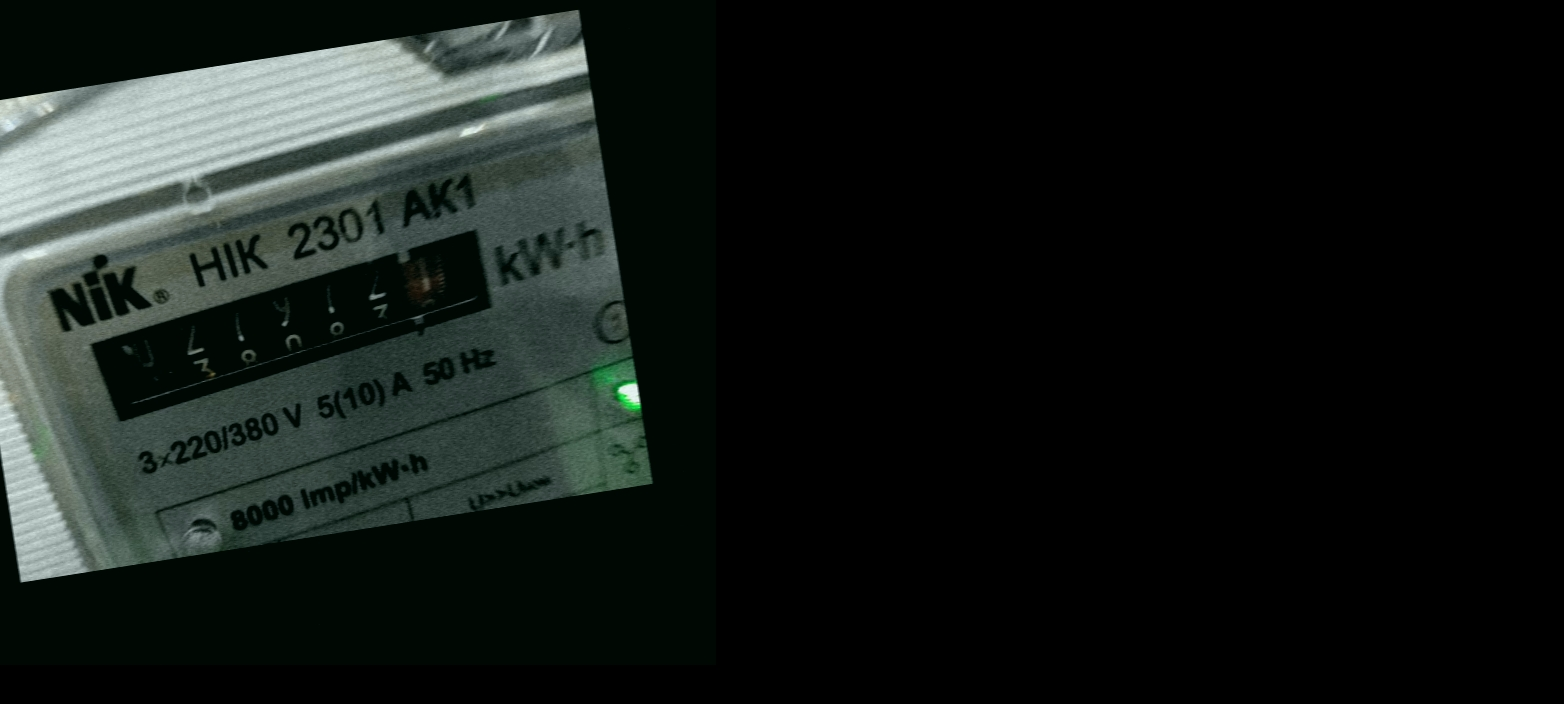0: (126, 332, 159, 372)
1: (409, 251, 438, 297)
2: (173, 315, 207, 358), (357, 262, 390, 303)
7: (311, 275, 343, 319), (222, 305, 250, 346)
9: (267, 291, 298, 329)
screen: (63, 214, 533, 436)
